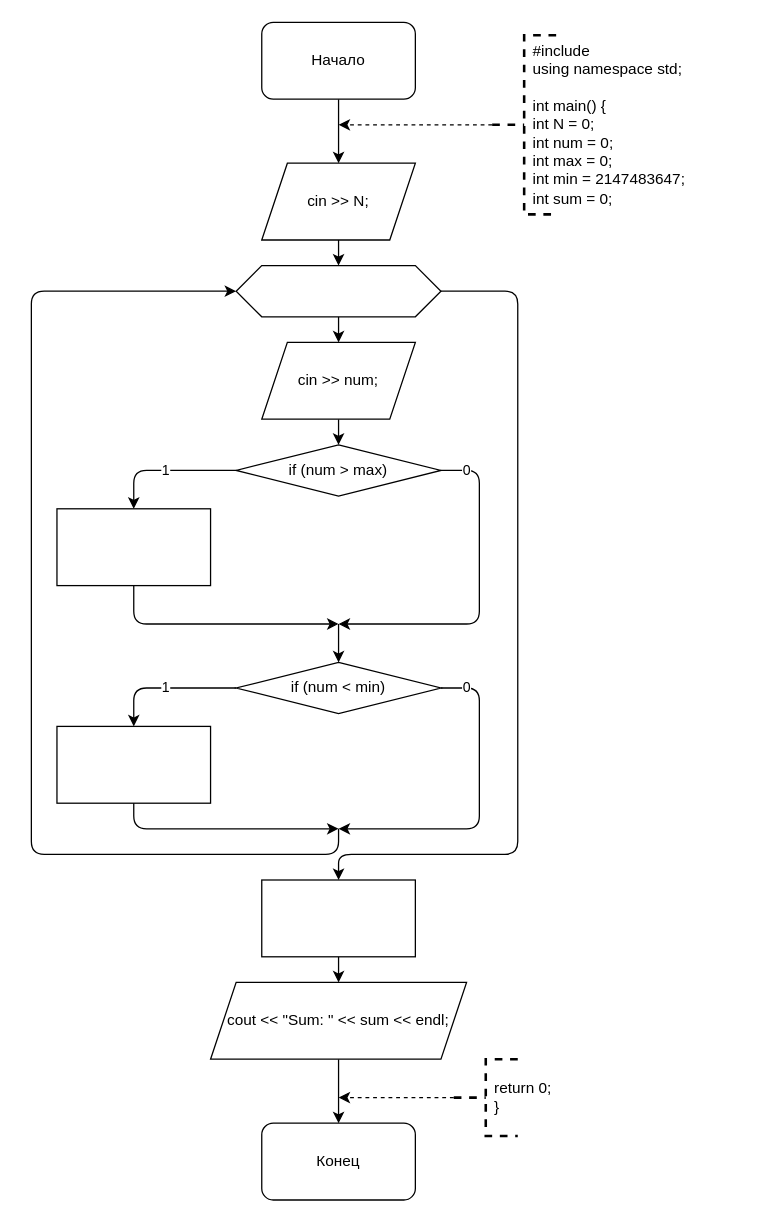
This 758x1222 diagram has some shape labels left out. The box of each missing label's shape, as (x1, y1, x2, y2) in pixels:
for (int i = 0; i < N; ++i): (235, 264, 441, 317)
max = num;: (56, 508, 211, 586)
min = num;: (56, 725, 211, 803)
sum = max + min;: (260, 879, 415, 957)
